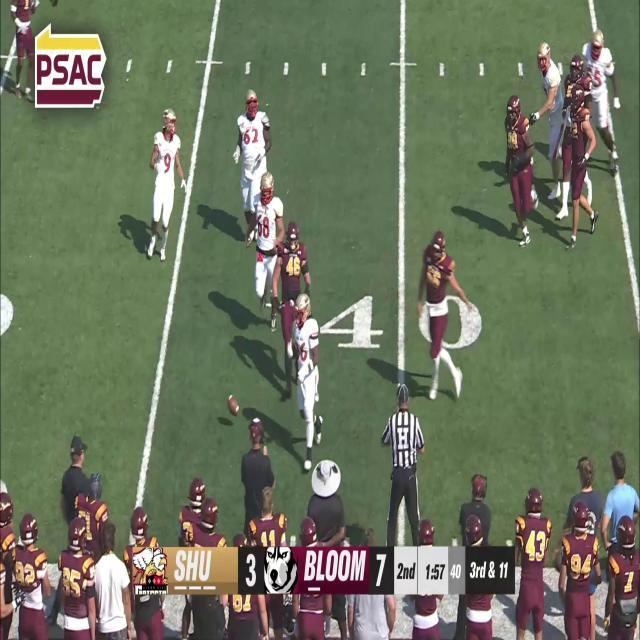football: (228, 394, 240, 416)
